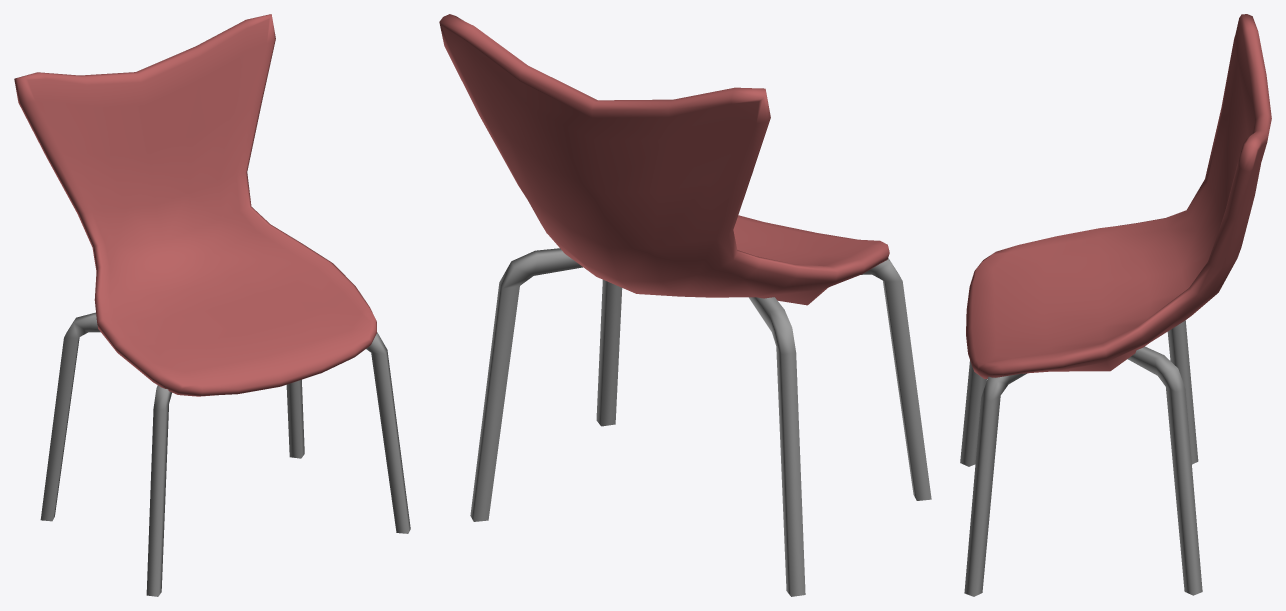
The model's file is Chair_6_231109.glb.
3 views of the same model, side by side, from view 1: azimuth 30°, elevation 25°; view 2: azimuth 150°, elevation 25°; view 3: azimuth 270°, elevation 25° (orthographic). The views are drawn at different scales.
Visible parts, largest first — view 1: Chair_6; view 2: Chair_6; view 3: Chair_6.
Boxes of the visible parts, x1,y1,x2,y2 form: Chair_6: [14, 14, 410, 596]; Chair_6: [439, 14, 931, 596]; Chair_6: [960, 14, 1271, 596].
Bounding box in the file's own units: 0.9518 × 1.43 × 0.9022.
1 material, 1 textured.
